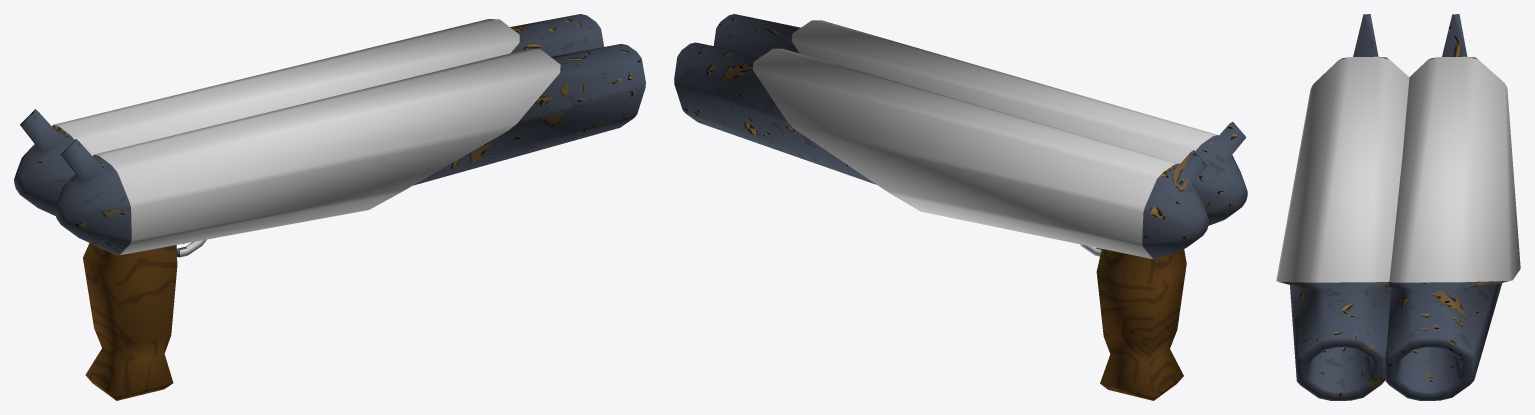
The model's file is shoutgun.dae.
3 renders of one model, left to right at view 1: azimuth 30°, elevation 25°; view 2: azimuth 150°, elevation 25°; view 3: azimuth 270°, elevation 25°, orthographic. The views are drawn at different scales.
Parts seen in each view (by area): view 1: SHOTGUNS DO GORDO DA EDREIRA; view 2: SHOTGUNS DO GORDO DA EDREIRA; view 3: SHOTGUNS DO GORDO DA EDREIRA.
Boxes of the visible parts, x1,y1,x2,y2 form: SHOTGUNS DO GORDO DA EDREIRA: [14, 14, 645, 400]; SHOTGUNS DO GORDO DA EDREIRA: [674, 14, 1247, 400]; SHOTGUNS DO GORDO DA EDREIRA: [1276, 14, 1520, 400].
Bounding box in the file's own units: 11.02 × 3.82 × 5.26.
Materials: 3 (2 with a texture image).
